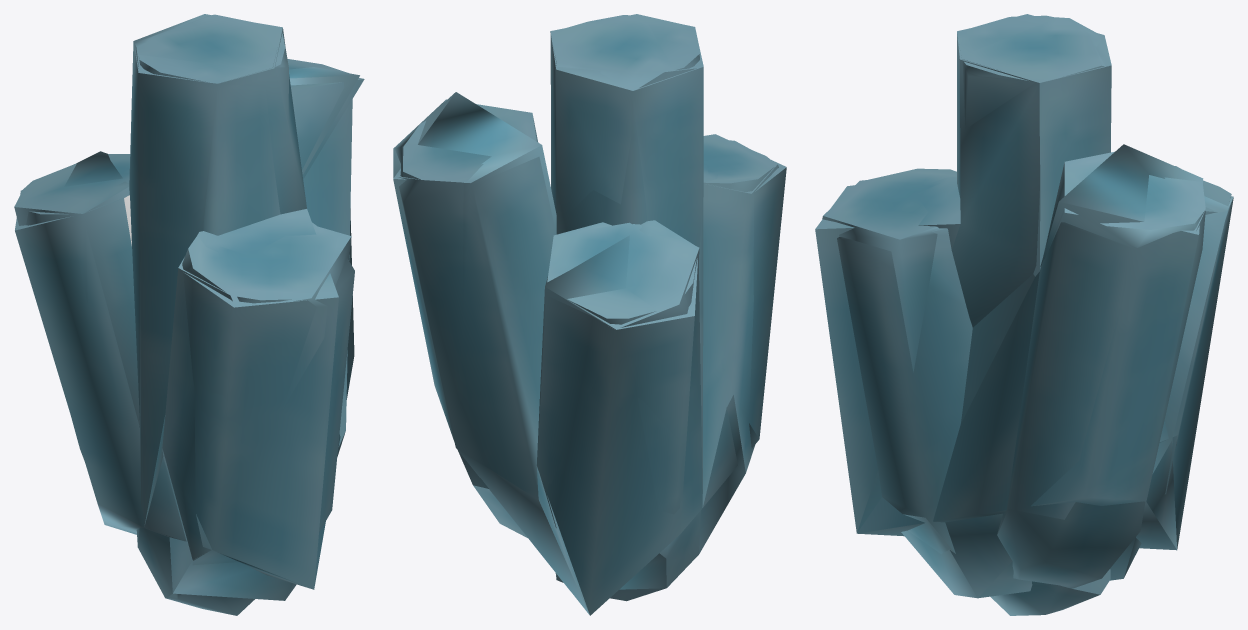
Rendered from objects_un_a_w23crystal01_08.gltf.
3 views of the same model, side by side, from view 1: azimuth 30°, elevation 25°; view 2: azimuth 150°, elevation 25°; view 3: azimuth 270°, elevation 25° (orthographic). The views are drawn at different scales.
Parts seen in each view (by area): view 1: um_objects_un_a_w23crystal01_08_model_lod2Shape:crystal03_ou, um_objects_un_a_w23crystal01_08_model_lod1Shape:crystal03_ou, um_objects_un_a_w23crystal01_08_model_lod0Shape:crystal03_ou; view 2: um_objects_un_a_w23crystal01_08_model_lod2Shape:crystal03_ou, um_objects_un_a_w23crystal01_08_model_lod1Shape:crystal03_ou, um_objects_un_a_w23crystal01_08_model_lod0Shape:crystal03_ou; view 3: um_objects_un_a_w23crystal01_08_model_lod2Shape:crystal03_ou, um_objects_un_a_w23crystal01_08_model_lod0Shape:crystal03_ou, um_objects_un_a_w23crystal01_08_model_lod1Shape:crystal03_ou.
Part boxes in pixels (x1,y1,x2,y2): um_objects_un_a_w23crystal01_08_model_lod2Shape:crystal03_ou: (15,14,359,589); um_objects_un_a_w23crystal01_08_model_lod1Shape:crystal03_ou: (14,14,364,600); um_objects_un_a_w23crystal01_08_model_lod0Shape:crystal03_ou: (20,14,354,615); um_objects_un_a_w23crystal01_08_model_lod2Shape:crystal03_ou: (393,14,786,615); um_objects_un_a_w23crystal01_08_model_lod1Shape:crystal03_ou: (393,14,778,589); um_objects_un_a_w23crystal01_08_model_lod0Shape:crystal03_ou: (395,15,774,601); um_objects_un_a_w23crystal01_08_model_lod2Shape:crystal03_ou: (815,14,1233,550); um_objects_un_a_w23crystal01_08_model_lod0Shape:crystal03_ou: (833,15,1231,615); um_objects_un_a_w23crystal01_08_model_lod1Shape:crystal03_ou: (822,17,1233,598).
Bounding box in the file's own units: 3.22 × 5.41 × 3.65.
Materials: 2 (1 with a texture image).
